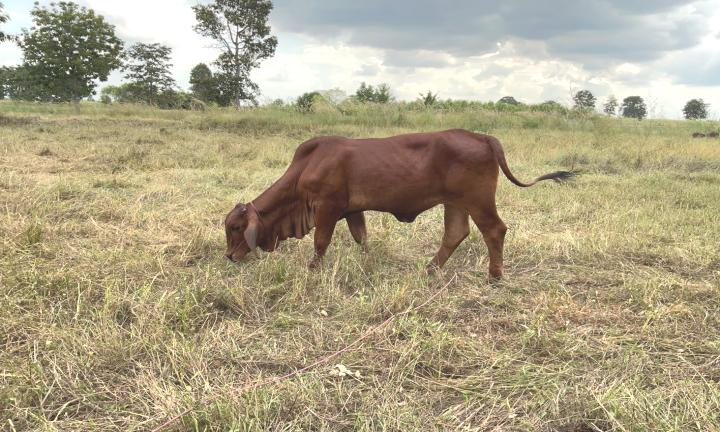Brahman: (225, 129, 576, 277)
